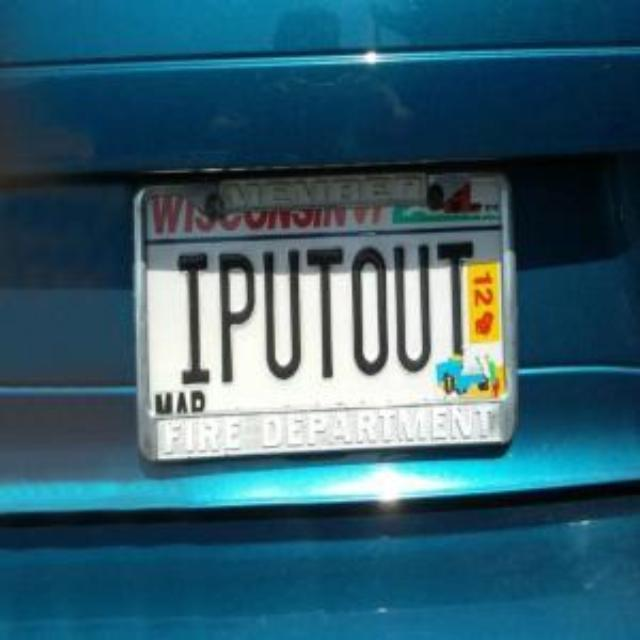License Plate: (138, 175, 516, 463)
